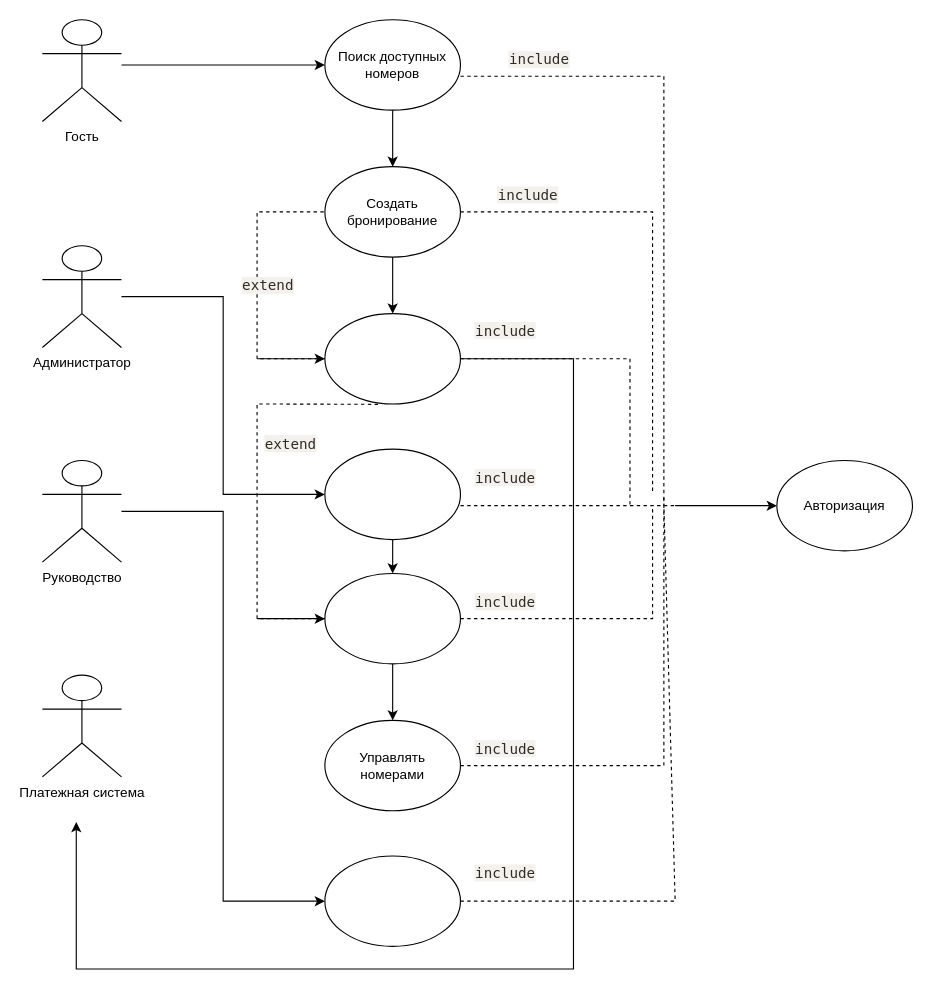
Some shapes in this 932 by 998 pixel diagram are drawn without their labels. Here are the shapes that lost their labels. From the top down, the box of each, then its label:
(324, 312, 460, 404): Оплатить бронирование
(324, 448, 460, 540): Управлять бронированиями
(324, 572, 460, 664): Оформить заселение/выселение
(324, 855, 460, 946): Сформировать отчеты
